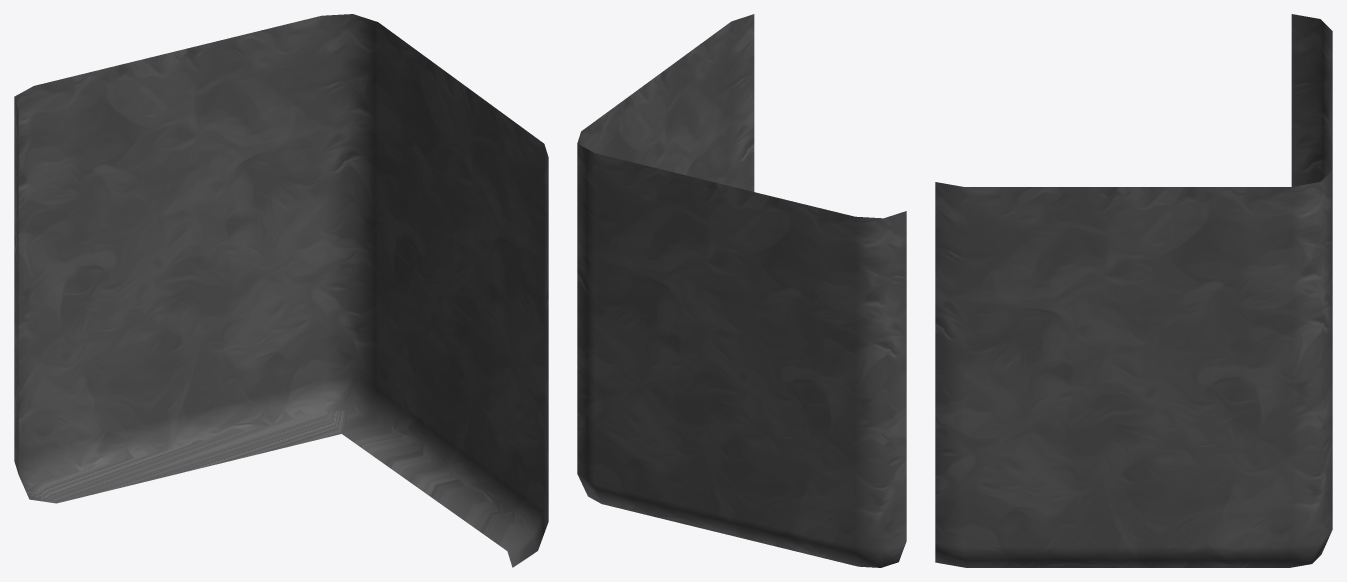
The model's file is GrassWallBottom.fbx.
The picture shows the model from 3 angles, left to right: view 1: azimuth 30°, elevation 25°; view 2: azimuth 150°, elevation 25°; view 3: azimuth 270°, elevation 25°; orthographic projection. The views are drawn at different scales.
Parts seen in each view (by area): view 1: GrassWallBottomModule; view 2: GrassWallBottomModule; view 3: GrassWallBottomModule.
Part boxes in pixels (x1,y1,x2,y2): GrassWallBottomModule: (14,14,548,567); GrassWallBottomModule: (577,14,906,567); GrassWallBottomModule: (935,14,1332,567).
Size of the model in its own units: 93.6 by 100 by 90.86.
